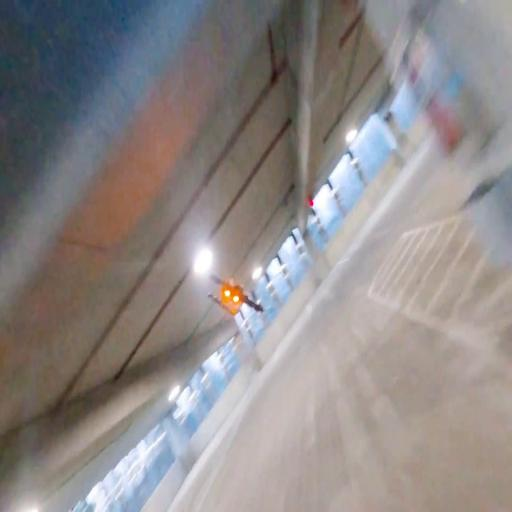uav: (208, 270, 268, 328)
